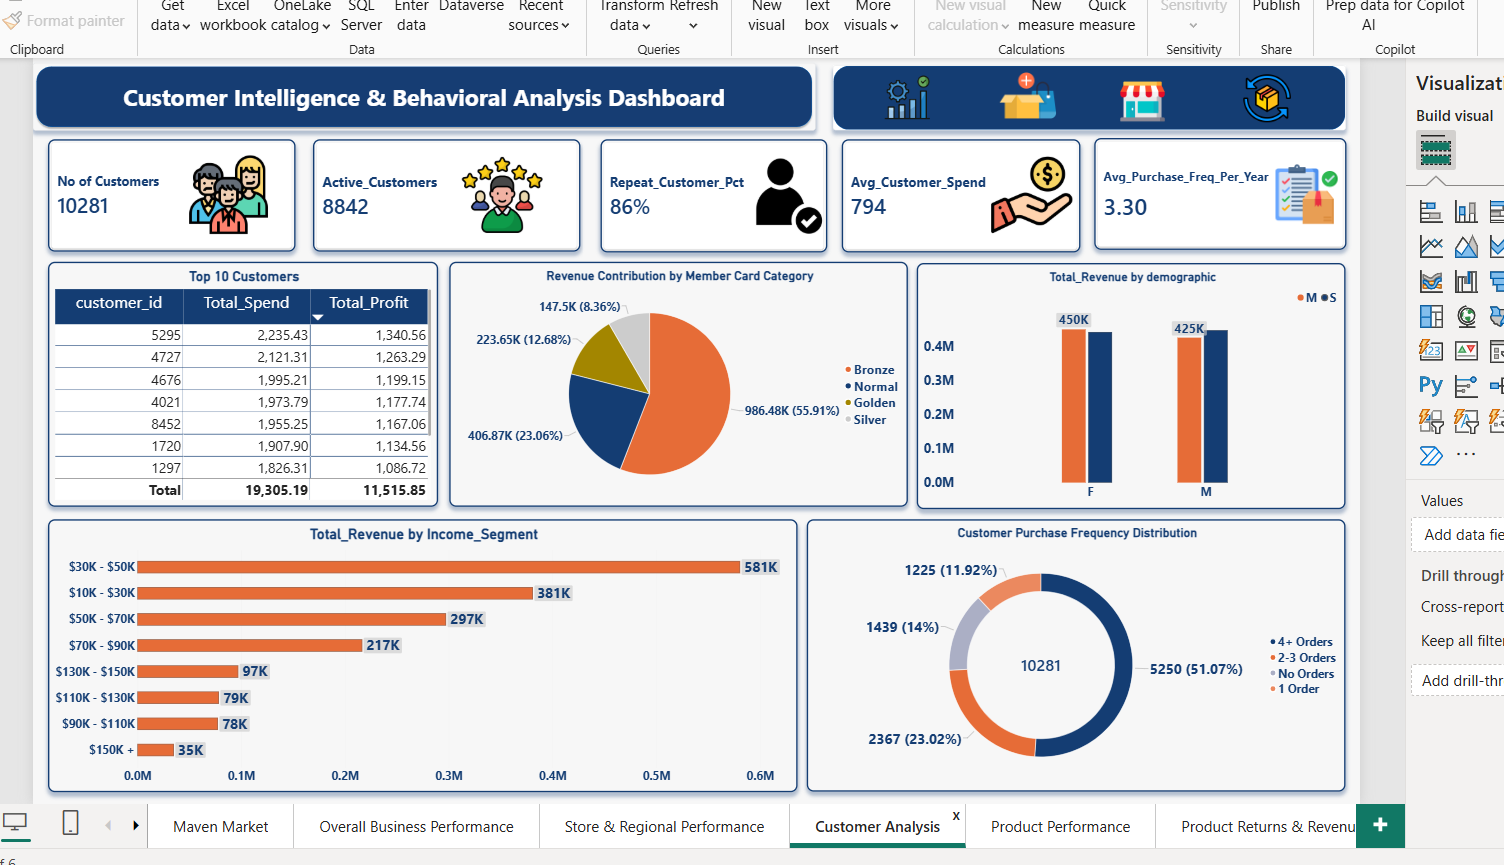

The dashboard page shown, as its layout file describes it:
{"tool":"powerbi","page":{"name":"Customer Analysis","canvas":[3840,2160],"ordinal":4},"visuals":[{"type":"shape","box":[0,14.5,2265.7,195.4],"z":0},{"type":"group","id":"g1","title":"Group 1","box":[2317,23.4,1484.7,187.5],"z":0,"group":"g2"},{"type":"image","box":[2383.6,46.8,299.9,140.7],"z":1000,"group":"g2"},{"type":"cardVisual","fields":{"Data":["Sum(Total Customer.Total_Customers)"]},"box":[43.4,235.2,716.6,325.7],"z":1000,"group":"g6"},{"type":"tableEx","title":"Top 10 Customers ","fields":{"Values":["D_Query1.customer_id","Sum(D_Query1.Total_Spend)","Sum(D_Query1.Total_Profit)"]},"box":[43.4,589.9,1129.2,709.4],"z":1000},{"type":"cardVisual","fields":{"Data":["Sum(Active & Repeat.Active_Customers)"]},"box":[810.7,235.2,774.5,325.7],"z":2000,"group":"g7"},{"type":"clusteredColumnChart","title":"Total_Revenue by demographic","fields":{"Category":["D_Query2.gender"],"Series":["D_Query2.marital_status"],"Y":["Sum(D_Query2.Total_Revenue)"]},"box":[2558.9,593.6,1241.4,713],"z":2000},{"type":"cardVisual","fields":{"Data":["Sum(Active & Repeat.Repeat_Customer_Pct)"]},"box":[1644.9,234.4,656.4,328.2],"z":3000,"group":"g8"},{"type":"barChart","title":"Total_Revenue by Income_Segment","fields":{"Category":["D_Query6.Income_Segment"],"Y":["Sum(D_Query6.Total_Revenue)"]},"box":[45,1335,2170,790],"z":3000},{"type":"cardVisual","fields":{"Data":["Sum(D_Query4.Avg_Purchase_Frequency_Per_Year)"]},"box":[3071.1,230.5,730.6,324.3],"z":4000,"group":"g4"},{"type":"pieChart","title":"Revenue Contribution by Member Card Category","fields":{"Category":["Member card.member_card"],"Y":["Sum(Member card.Total_Revenue)"]},"box":[1205.2,589.9,1328.3,709.4],"z":4000},{"type":"donutChart","title":"Customer Purchase Frequency Distribution","fields":{"Category":["Customer Purchase Frequency Distribution.Purchase_Frequency_Group"],"Y":["Sum(Customer Purchase Frequency Distribution.Customer_Count)"]},"box":[2240.4,1335.5,1559.9,789],"z":5000},{"type":"group","id":"g2","title":"Group 2","box":[2317,23.4,1484.7,179.7],"z":6000,"group":"g5"},{"type":"image","box":[3159.7,39.8,148.4,133.9],"z":6000},{"type":"image","box":[2767.4,23.7,231.6,173.7],"z":7000,"group":"g5"},{"type":"group","id":"g3","title":"Group 6","box":[43.4,234.4,2988.6,328.2],"z":7000},{"type":"group","id":"g4","title":"Group 7","box":[3071.1,230.5,730.6,324.3],"z":8000},{"type":"group","id":"g5","title":"Group 8","box":[2317,23.4,1484.7,179.7],"z":9000},{"type":"cardVisual","fields":{"Data":["Sum(Member card.Avg_Spend_Per_Customer)"]},"box":[2340.4,234.4,691.6,328.2],"z":10000,"group":"g3"},{"type":"image","box":[3109.5,62.6,207.7,128.9],"z":10002,"group":"g5"},{"type":"image","box":[434.3,278.6,264.2,235.3],"z":12000,"group":"g6"},{"type":"image","box":[2081.1,282.3,217.2,235.3],"z":13000,"group":"g8"},{"type":"image","box":[1205.2,278.6,307.6,235.3],"z":14000,"group":"g7"},{"type":"image","box":[2754.6,277.4,275.1,235.3],"z":15000,"group":"g3"},{"type":"image","box":[3594.7,273.5,179.7,238.3],"z":16000,"group":"g4"},{"type":"group","id":"g6","title":"Group 3","box":[43.4,235.2,716.6,325.7],"z":18001,"group":"g7"},{"type":"group","id":"g7","title":"Group 4","box":[43.4,235.2,1541.8,325.7],"z":18002,"group":"g8"},{"type":"group","id":"g8","title":"Group 5","box":[43.4,234.4,2257.9,328.2],"z":18003,"group":"g3"},{"type":"shape","box":[2317,23.4,1484.7,187.5],"z":19000,"group":"g1"},{"type":"image","box":[3453.7,47.7,240.7,138.9],"z":23000,"group":"g1"}]}

Visuals, with their boxes on the page's 3840x2160 design canvas (x1, y1, x2, y2). These are canvas units, not pixel positions in the 1504x865 screenshot, which may show the page scaled, cropped or inside an application window:
shape: <box>0,14,2266,210</box>
"Group 1" group: <box>2317,23,3802,211</box>
image: <box>2384,47,2684,188</box>
cardVisual - Sum(Total Customer.Total_Customers): <box>43,235,760,561</box>
"Top 10 Customers " tableEx: <box>43,590,1173,1299</box>
cardVisual - Sum(Active & Repeat.Active_Customers): <box>811,235,1585,561</box>
"Total_Revenue by demographic" clusteredColumnChart: <box>2559,594,3800,1307</box>
cardVisual - Sum(Active & Repeat.Repeat_Customer_Pct): <box>1645,234,2301,563</box>
"Total_Revenue by Income_Segment" barChart: <box>45,1335,2215,2125</box>
cardVisual - Sum(D_Query4.Avg_Purchase_Frequency_Per_Year): <box>3071,230,3802,555</box>
"Revenue Contribution by Member Card Category" pieChart: <box>1205,590,2534,1299</box>
"Customer Purchase Frequency Distribution" donutChart: <box>2240,1336,3800,2124</box>
"Group 2" group: <box>2317,23,3802,203</box>
image: <box>3160,40,3308,174</box>
image: <box>2767,24,2999,197</box>
"Group 6" group: <box>43,234,3032,563</box>
"Group 7" group: <box>3071,230,3802,555</box>
"Group 8" group: <box>2317,23,3802,203</box>
cardVisual - Sum(Member card.Avg_Spend_Per_Customer): <box>2340,234,3032,563</box>
image: <box>3110,63,3317,192</box>
image: <box>434,279,698,514</box>
image: <box>2081,282,2298,518</box>
image: <box>1205,279,1513,514</box>
image: <box>2755,277,3030,513</box>
image: <box>3595,274,3774,512</box>
"Group 3" group: <box>43,235,760,561</box>
"Group 4" group: <box>43,235,1585,561</box>
"Group 5" group: <box>43,234,2301,563</box>
shape: <box>2317,23,3802,211</box>
image: <box>3454,48,3694,187</box>
